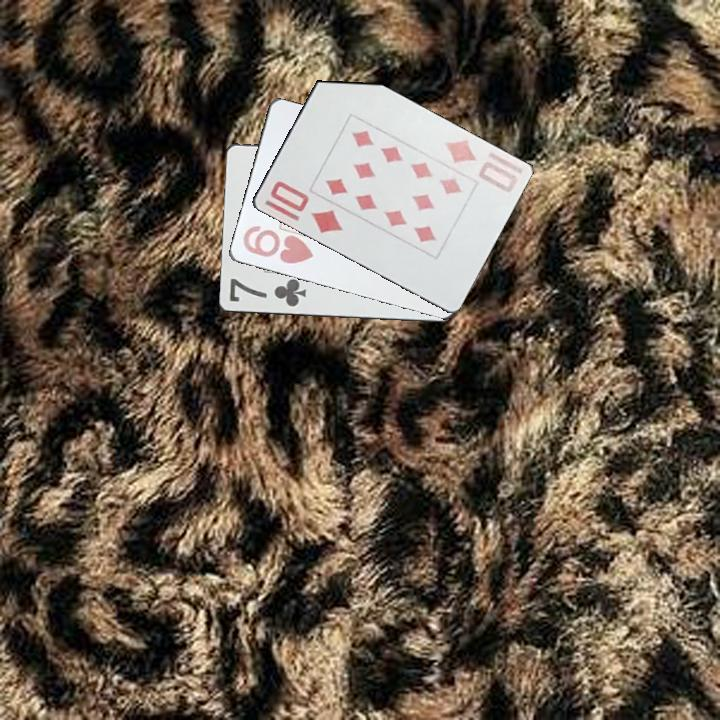6h: (239, 223, 316, 267)
7c: (225, 275, 309, 310)
Td: (440, 136, 520, 196), (266, 177, 345, 236)
